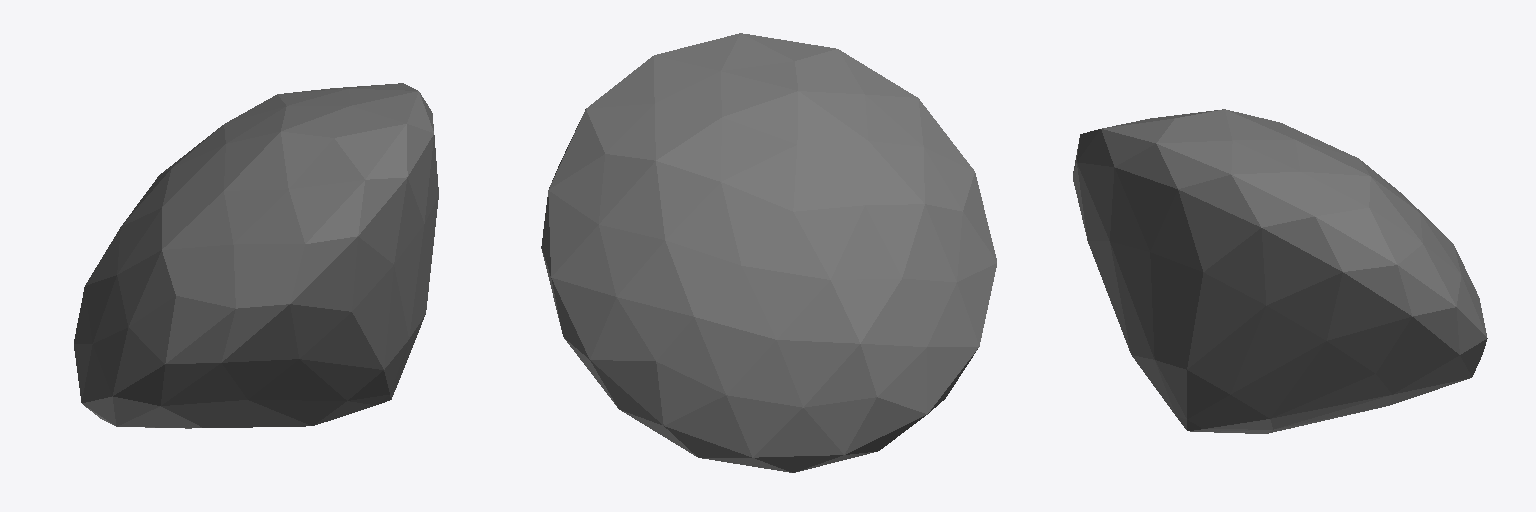
The model's file is stone1.obj.
The picture shows the model from 3 angles: view 1: azimuth 30°, elevation 25°; view 2: azimuth 150°, elevation 25°; view 3: azimuth 270°, elevation 25°; orthographic projection.
Parts seen in each view (by area): view 1: model_obj:GeoSphere01; view 2: model_obj:GeoSphere01; view 3: model_obj:GeoSphere01.
Boxes of the visible parts, box(x1,y1,x2,y2) form: model_obj:GeoSphere01: box(74, 83, 438, 428); model_obj:GeoSphere01: box(541, 33, 996, 472); model_obj:GeoSphere01: box(1073, 109, 1487, 433).
Bounding box in the file's own units: 1.76 × 1.48 × 1.78.